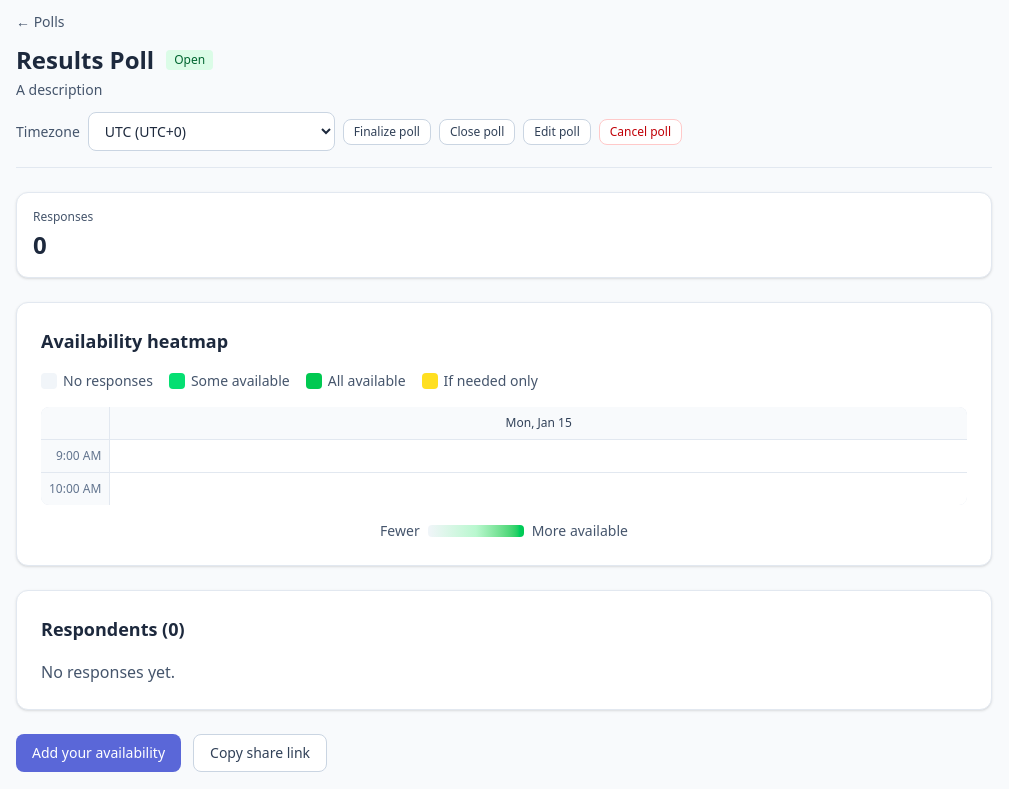
it: PollResults - management actions (authenticated) › closes the poll and updates the status badge
Expected: the link "Edit poll" is shown, [523,118,591,144]
Step 1. Click the button "Close poll" → (477, 132), box [439,118,515,144]
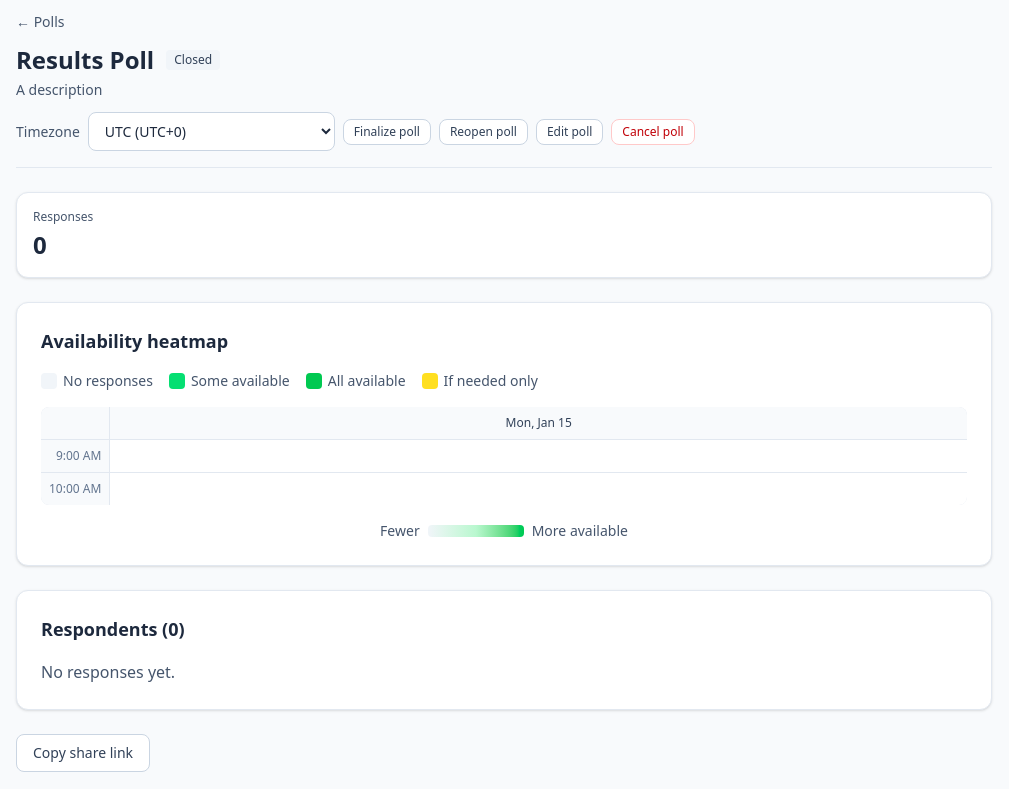
Now the text "closed" is shown, box [166,50,220,70]
